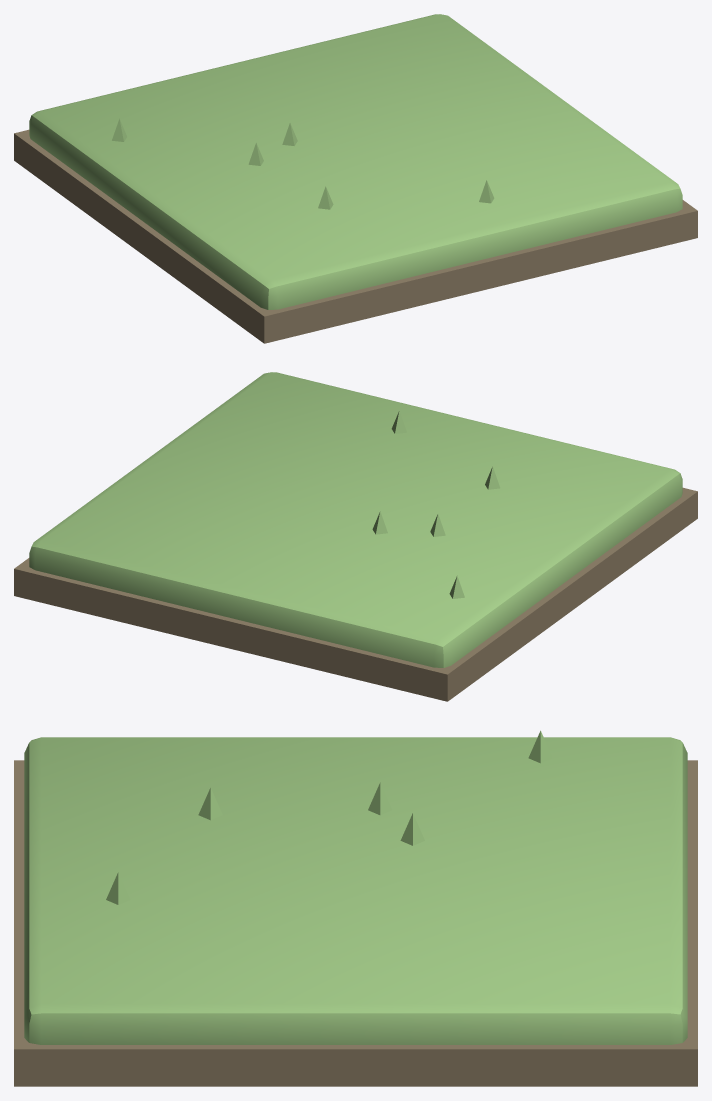
File: floor_tile_garden.glb
3 views of the same model, one above another, from view 1: azimuth 30°, elevation 25°; view 2: azimuth 150°, elevation 25°; view 3: azimuth 270°, elevation 25° (orthographic). The views are drawn at different scales.
Parts seen in each view (by area): view 1: floor_a; view 2: floor_a; view 3: floor_a.
Boxes of the visible parts, x1,y1,x2,y2 form: floor_a: (14,14,697,343); floor_a: (14,372,697,701); floor_a: (14,730,697,1086).
Bounding box in the file's own units: 1 × 0.16 × 1.
